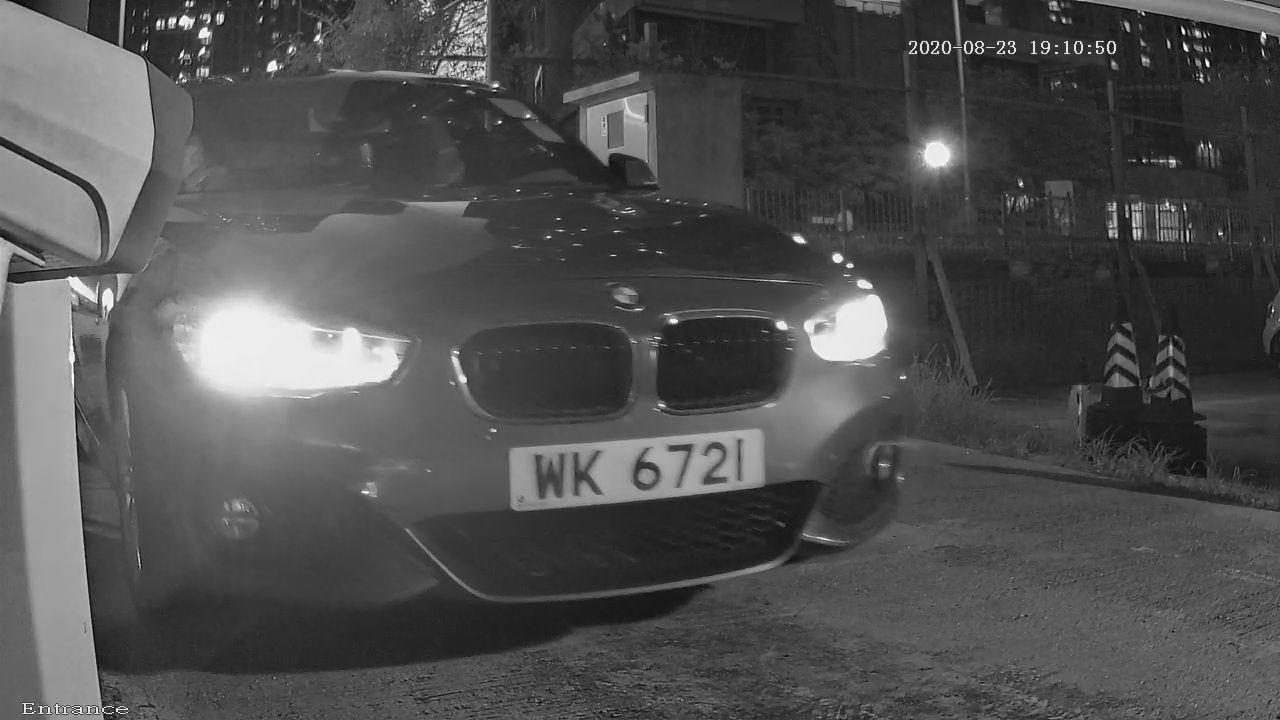Car: (1, 7, 989, 682)
License Plate: (460, 398, 832, 548)
